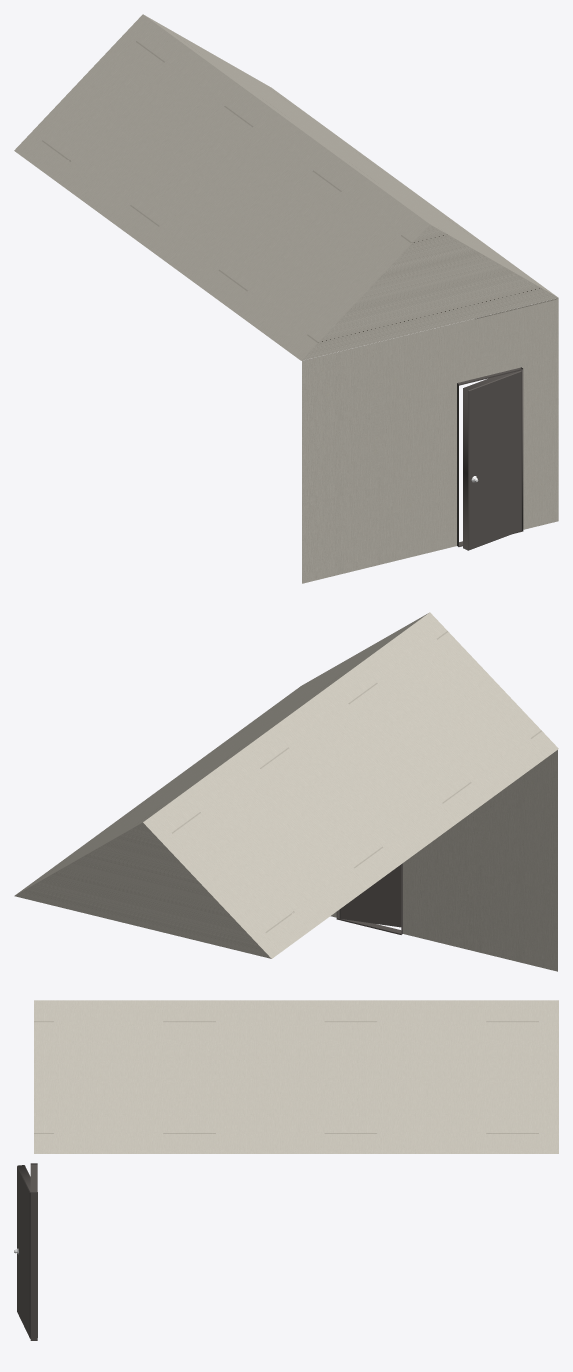
File: AS_Tek_istaba_jumts1.glb
The picture shows the model from 3 angles, top to bottom: view 1: azimuth 30°, elevation 25°; view 2: azimuth 150°, elevation 25°; view 3: azimuth 270°, elevation 25°; orthographic projection. The views are drawn at different scales.
Visible parts, largest first — view 1: room; view 2: room; view 3: room.
Boxes of the visible parts, x1,y1,x2,y2 form: room: (14,14,558,583); room: (14,612,558,971); room: (14,1000,558,1340).
Size of the model in its own units: 3.63 by 4.42 by 7.27.
Materials: 3 (1 with a texture image).
